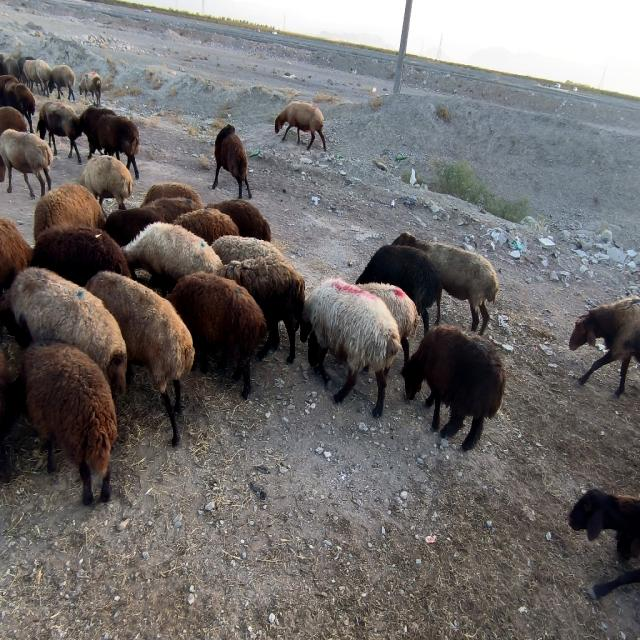sheep: (86, 272, 195, 447), (20, 342, 118, 505), (0, 268, 128, 391), (300, 278, 400, 416), (401, 327, 505, 450), (169, 272, 266, 399), (392, 233, 499, 334), (221, 255, 305, 362), (36, 102, 139, 178), (356, 245, 442, 332), (569, 297, 640, 397), (122, 222, 222, 292), (30, 225, 130, 287), (569, 488, 640, 558), (359, 285, 419, 362), (80, 107, 140, 178), (34, 183, 105, 239), (0, 130, 51, 196), (80, 155, 134, 210), (212, 125, 251, 198), (206, 198, 271, 241), (275, 102, 326, 151), (105, 207, 164, 247), (174, 208, 239, 244), (211, 235, 284, 265), (0, 75, 35, 132), (588, 569, 640, 599), (24, 60, 51, 96), (49, 65, 75, 99), (79, 72, 101, 106), (1, 107, 28, 134), (0, 53, 20, 79)
